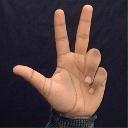hand: (12, 4, 107, 119)
